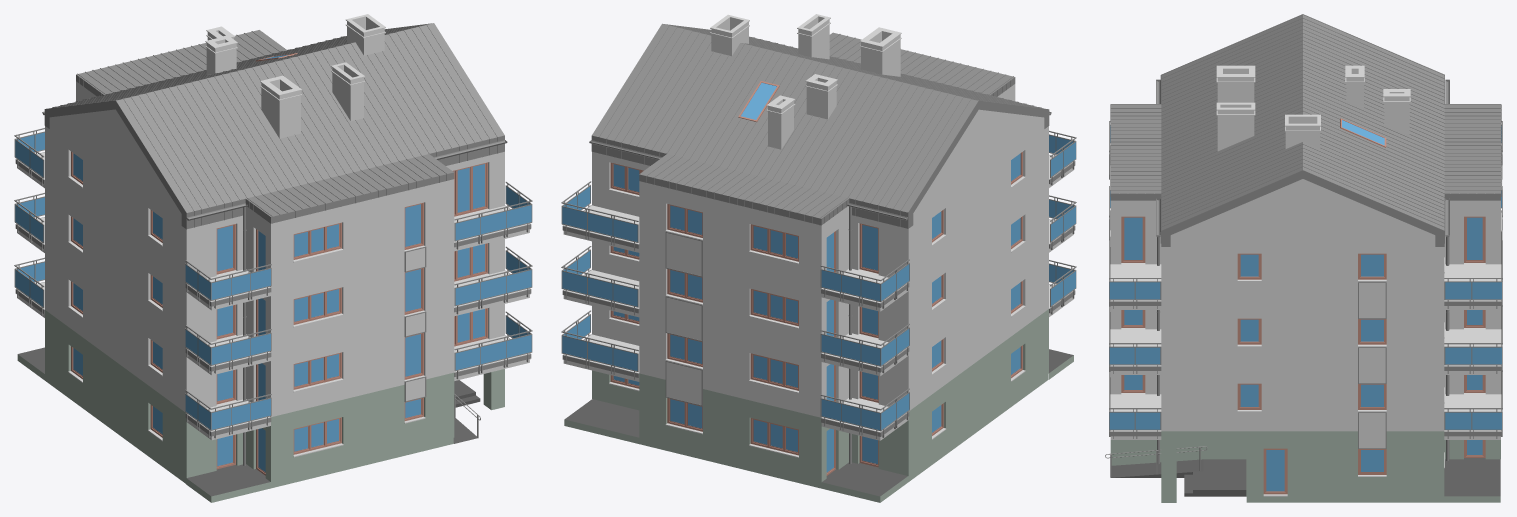
The model's file is edificio.glb.
3 renders of one model, left to right at view 1: azimuth 30°, elevation 25°; view 2: azimuth 150°, elevation 25°; view 3: azimuth 270°, elevation 25°, orthographic.
Visible parts, largest first — view 1: building_walls, roof, foundation_wall, window.005, barrels, chimney, balcony, metal_cover, terrace, boards, eneter_floor, gutters.003; view 2: building_walls, roof, foundation_wall, window.005, barrels, chimney, balcony, terrace, boards.001, metal_cover, window_roof, gutters.003; view 3: building_walls, roof, foundation_wall, window.005, barrels, balcony, chimney, boards.001, eneter_floor, terrace, metal_cover, roof_plate (+3 smaller).
Part boxes in pixels (x1=…): building_walls: x1=45, y1=81, x2=504, y2=417; roof: x1=44, y1=23, x2=504, y2=229; foundation_wall: x1=45, y1=310, x2=454, y2=488; window.005: x1=68, y1=151, x2=487, y2=475; barrels: x1=14, y1=128, x2=532, y2=438; chimney: x1=205, y1=14, x2=385, y2=138; balcony: x1=17, y1=152, x2=529, y2=440; metal_cover: x1=15, y1=152, x2=531, y2=436; terrace: x1=17, y1=347, x2=270, y2=502; boards: x1=404, y1=246, x2=426, y2=402; eneter_floor: x1=453, y1=380, x2=480, y2=443; gutters.003: x1=42, y1=111, x2=507, y2=220; building_walls: x1=592, y1=84, x2=1048, y2=417; roof: x1=591, y1=23, x2=1049, y2=228; foundation_wall: x1=592, y1=309, x2=1048, y2=488; window.005: x1=609, y1=152, x2=1025, y2=475; barrels: x1=561, y1=130, x2=1076, y2=438; chimney: x1=710, y1=14, x2=901, y2=149; balcony: x1=563, y1=155, x2=1073, y2=440; terrace: x1=564, y1=349, x2=1073, y2=502; boards.001: x1=665, y1=232, x2=702, y2=406; metal_cover: x1=562, y1=155, x2=1075, y2=436; window_roof: x1=738, y1=81, x2=779, y2=121; gutters.003: x1=589, y1=111, x2=1051, y2=220; building_walls: x1=1110, y1=179, x2=1500, y2=502; roof: x1=1110, y1=14, x2=1501, y2=246; foundation_wall: x1=1110, y1=431, x2=1500, y2=502; window.005: x1=1110, y1=165, x2=1502, y2=496; barrels: x1=1109, y1=121, x2=1502, y2=438; balcony: x1=1110, y1=263, x2=1500, y2=439; chimney: x1=1216, y1=65, x2=1410, y2=151; boards.001: x1=1358, y1=213, x2=1501, y2=448; eneter_floor: x1=1111, y1=459, x2=1246, y2=496; terrace: x1=1444, y1=458, x2=1500, y2=502; metal_cover: x1=1109, y1=145, x2=1501, y2=436; roof_plate: x1=1110, y1=193, x2=1500, y2=200.
Size of what is drawn, in the model's own units: 15.55 by 17.89 by 16.63.
